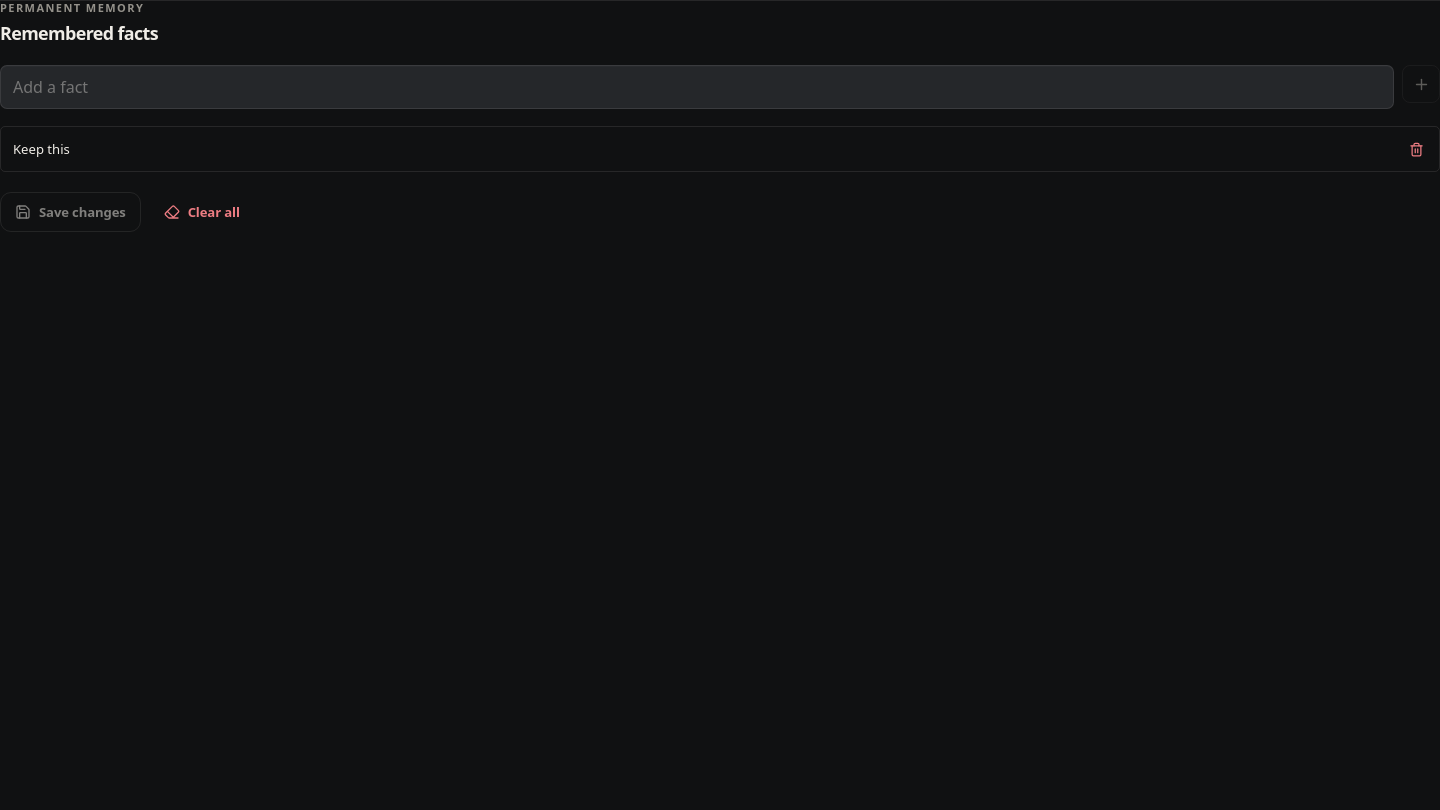
Scenario: MemoryPanel › only clears the draft after clear succeeds
Click the button "Clear all" at (202, 212), box [149,192,255,232]
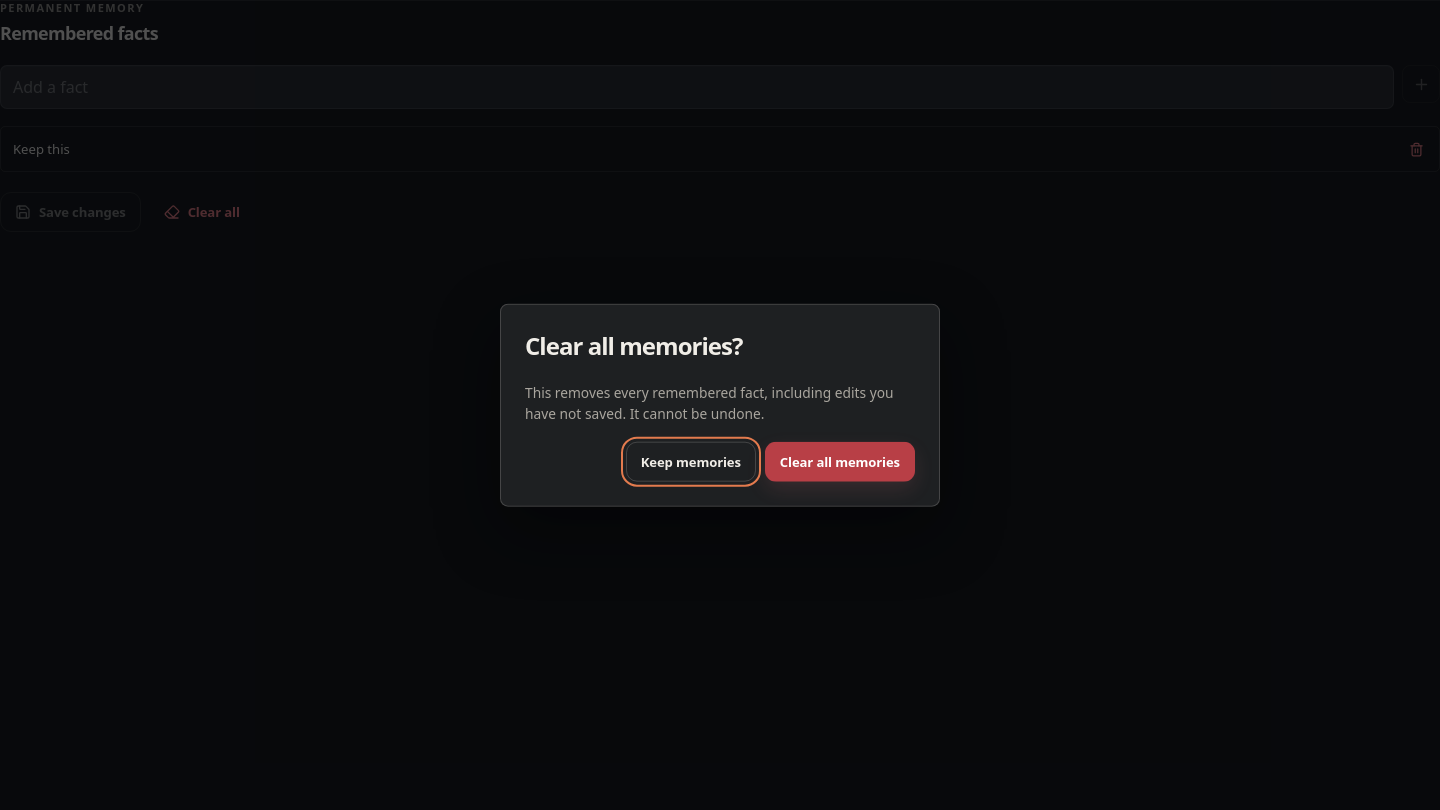
Click the button "Clear all memories" at (840, 461), box [765,441,915,481]
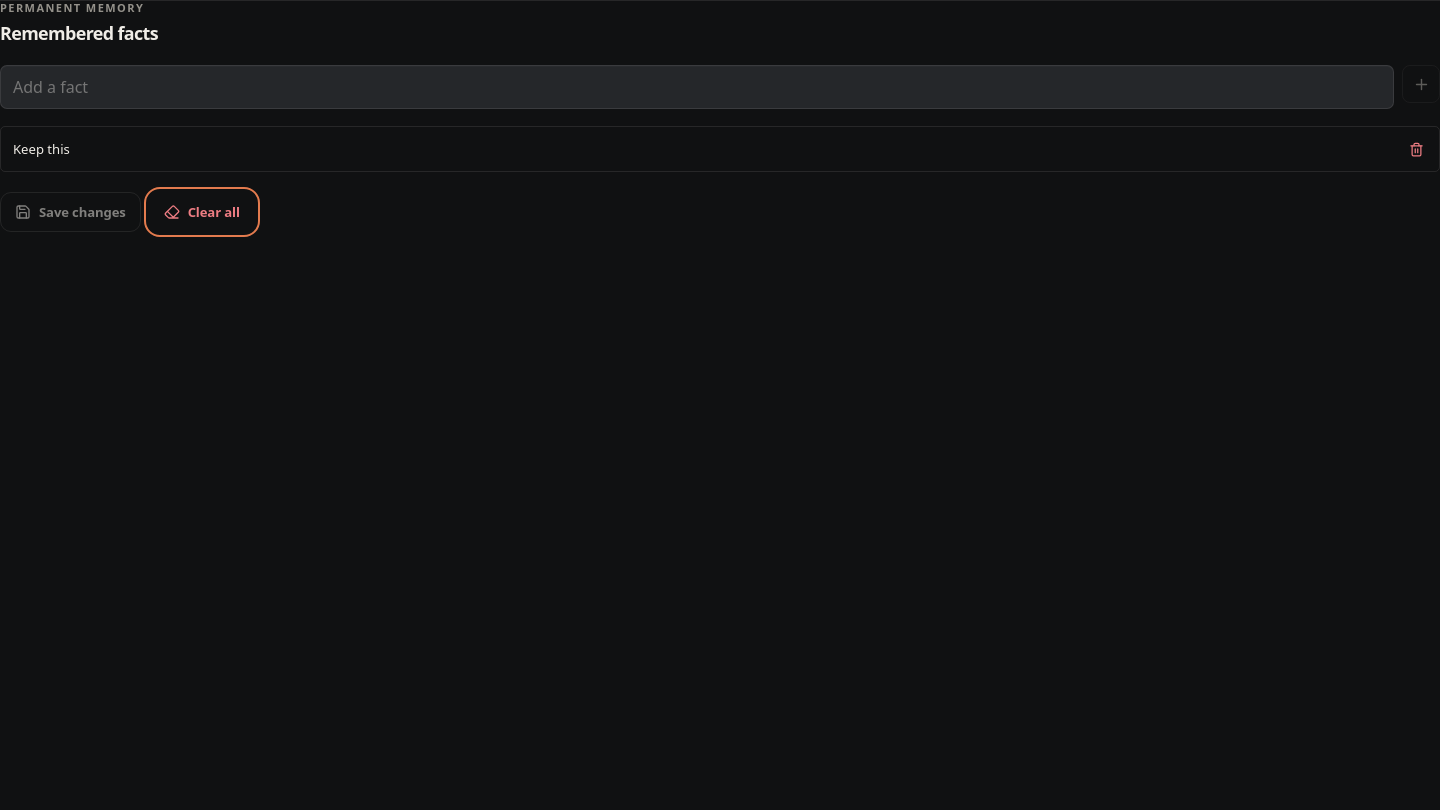
Expected: the field named "Memory 1" holds "Keep this", [9,136,1394,163]
Result: the dialog is gone
